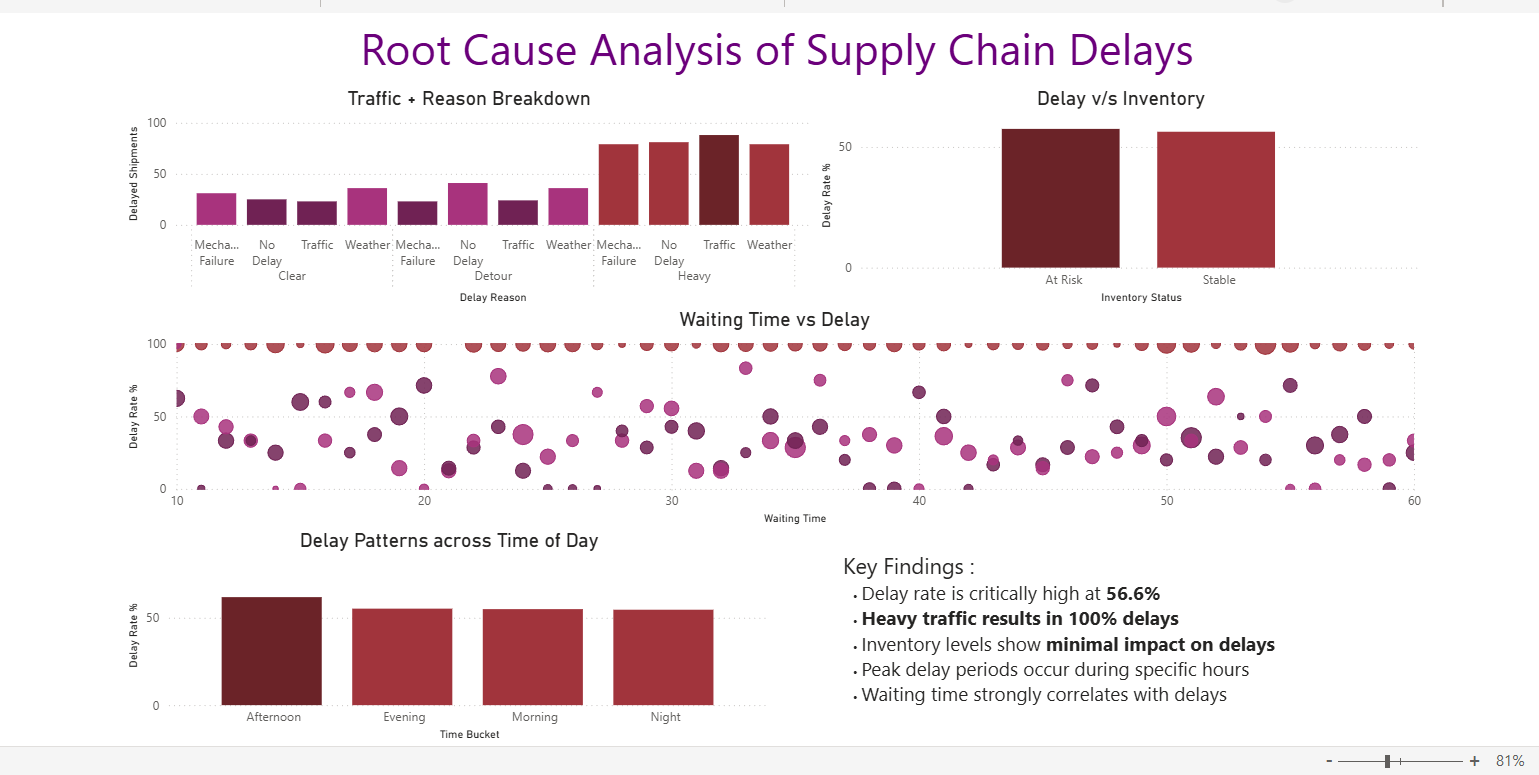

The page's visual inventory and layout, read from the dashboard file:
{"tool":"powerbi","page":{"name":"Root Cause Analysis","canvas":[1280,720],"ordinal":4},"visuals":[{"type":"textbox","box":[228.7,0,903.7,72.1],"z":0},{"type":"columnChart","title":"Traffic + Reason Breakdown","fields":{"Category":["supply_chain_cleaned.Traffic_Status","supply_chain_cleaned.Logistics_Delay_Reason"],"Y":["Key Measures.Delayed Shipments"]},"box":[0,72.1,679.9,217.7],"z":1},{"type":"clusteredColumnChart","title":"Delay v/s Inventory","fields":{"Category":["supply_chain_cleaned.Inventory Status"],"Y":["Key Measures.Delay Rate %"]},"box":[679.9,72.1,600.4,217.7],"z":2},{"type":"scatterChart","title":"Waiting Time vs Delay","fields":{"Y":["Key Measures.Delay Rate %"],"Size":["Sum(supply_chain_cleaned.Demand_Forecast)"],"Series":["supply_chain_cleaned.Traffic_Status"],"X":["supply_chain_cleaned.Waiting_Time"]},"box":[0,289.8,1280.3,217.7],"z":3},{"type":"columnChart","title":"Delay Patterns across Time of Day","fields":{"Category":["supply_chain_cleaned.Time Bucket"],"Y":["Key Measures.Delay Rate %"]},"box":[0,507.5,640.8,212.8],"z":4},{"type":"textbox","box":[701.9,523.4,557.6,181],"z":5}]}

Visuals, with their boxes on the page's 1280x720 design canvas (x1, y1, x2, y2). These are canvas units, not pixel positions in the 1539x775 screenshot, which may show the page scaled, cropped or inside an application window:
textbox: bbox(229, 0, 1132, 72)
"Traffic + Reason Breakdown" columnChart: bbox(0, 72, 680, 290)
"Delay v/s Inventory" clusteredColumnChart: bbox(680, 72, 1280, 290)
"Waiting Time vs Delay" scatterChart: bbox(0, 290, 1280, 508)
"Delay Patterns across Time of Day" columnChart: bbox(0, 508, 641, 720)
textbox: bbox(702, 523, 1260, 704)
